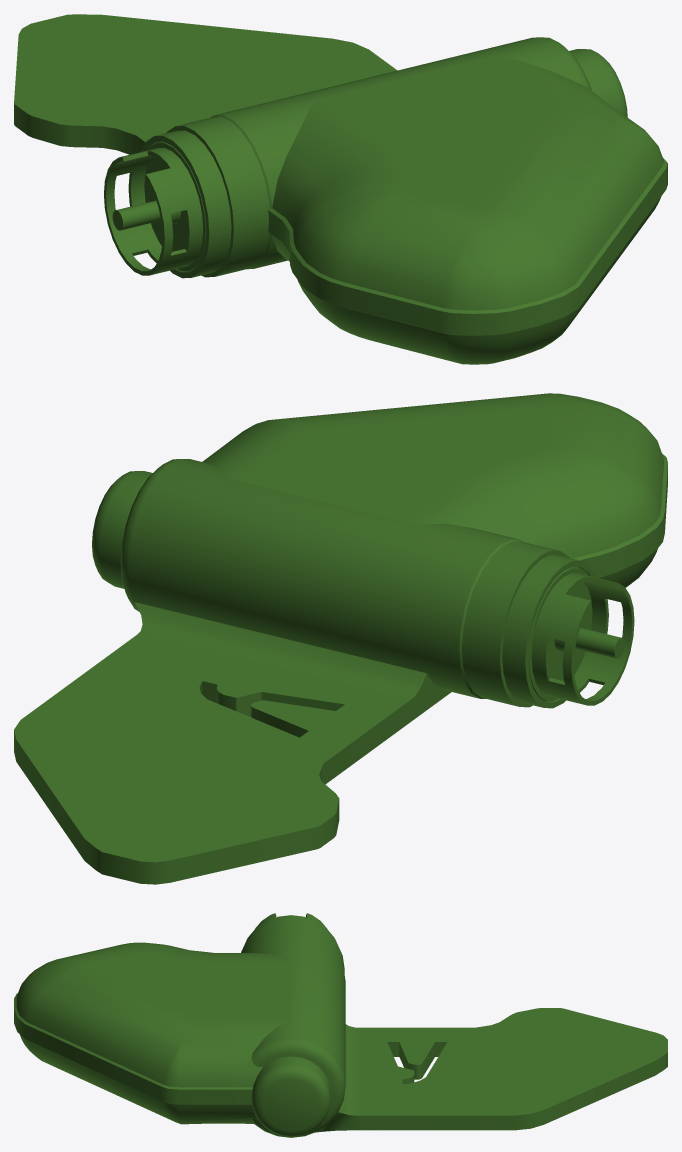
Rendered from pfm1s.glb.
3 renders of one model, top to bottom at view 1: azimuth 30°, elevation 25°; view 2: azimuth 150°, elevation 25°; view 3: azimuth 270°, elevation 25°, orthographic. The views are drawn at different scales.
Parts seen in each view (by area): view 1: Mesh3_FrontColor_0, Mesh5_FrontColor_0, Mesh1_FrontColor_0, Mesh2_FrontColor_0; view 2: Mesh5_FrontColor_0, Mesh2_FrontColor_0, Mesh3_FrontColor_0, Mesh1_FrontColor_0; view 3: Mesh3_FrontColor_0, Mesh5_FrontColor_0, Mesh2_FrontColor_0, Mesh1_FrontColor_0.
Boxes of the visible parts, x1,y1,x2,y2 form: Mesh3_FrontColor_0: [268, 56, 667, 364]; Mesh5_FrontColor_0: [14, 14, 397, 154]; Mesh1_FrontColor_0: [104, 117, 269, 278]; Mesh2_FrontColor_0: [210, 37, 627, 269]; Mesh5_FrontColor_0: [14, 602, 451, 884]; Mesh2_FrontColor_0: [92, 459, 523, 698]; Mesh3_FrontColor_0: [202, 393, 667, 587]; Mesh1_FrontColor_0: [462, 541, 634, 708]; Mesh3_FrontColor_0: [14, 942, 291, 1124]; Mesh5_FrontColor_0: [315, 1008, 667, 1132]; Mesh2_FrontColor_0: [247, 931, 345, 1137]; Mesh1_FrontColor_0: [241, 913, 344, 973].
Size of what is drawn, in the model's own units: 0.7087 by 0.2 by 1.2.
